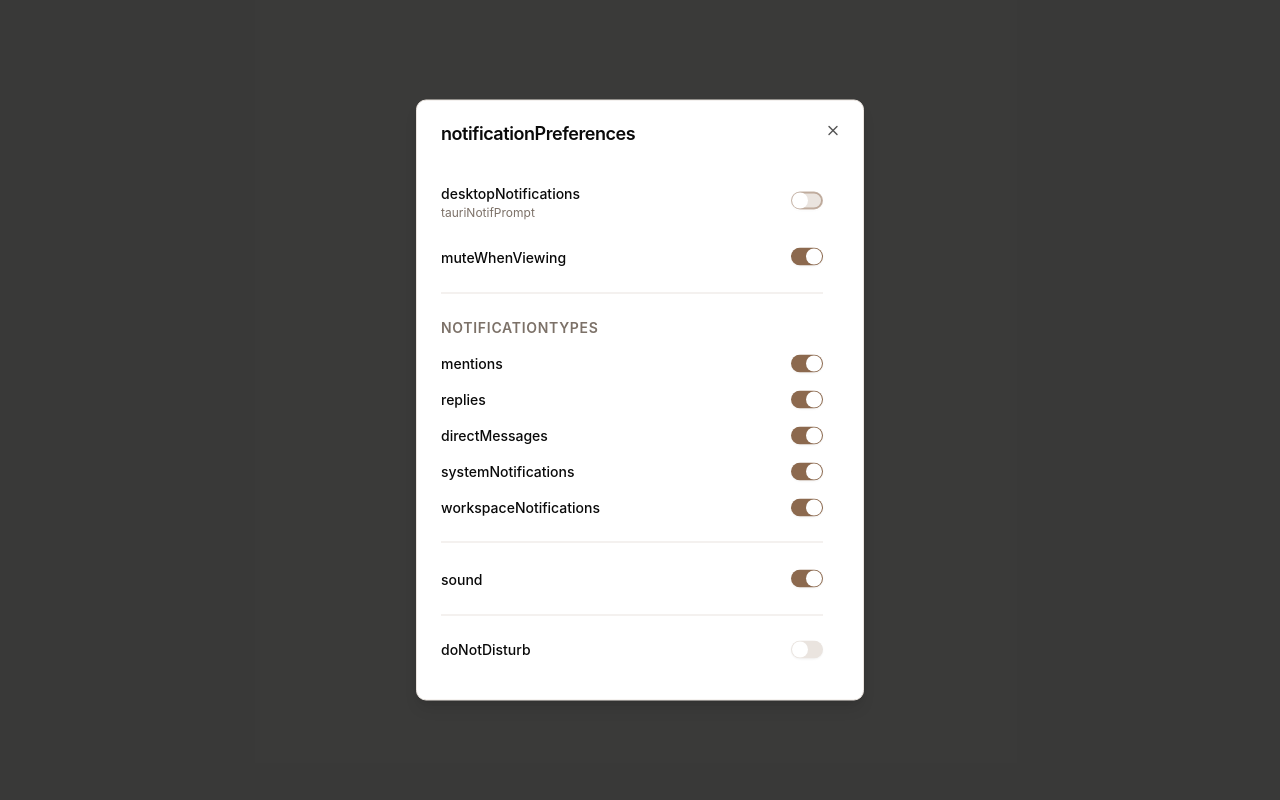
it: NotificationPreferencesDialog › desktop notifications in Tauri (per-device) › toggling ON does not flip the switch when user denies permission
Click the switch in the row of "desktopNotifications" at (807, 200), box [791,191,823,210]
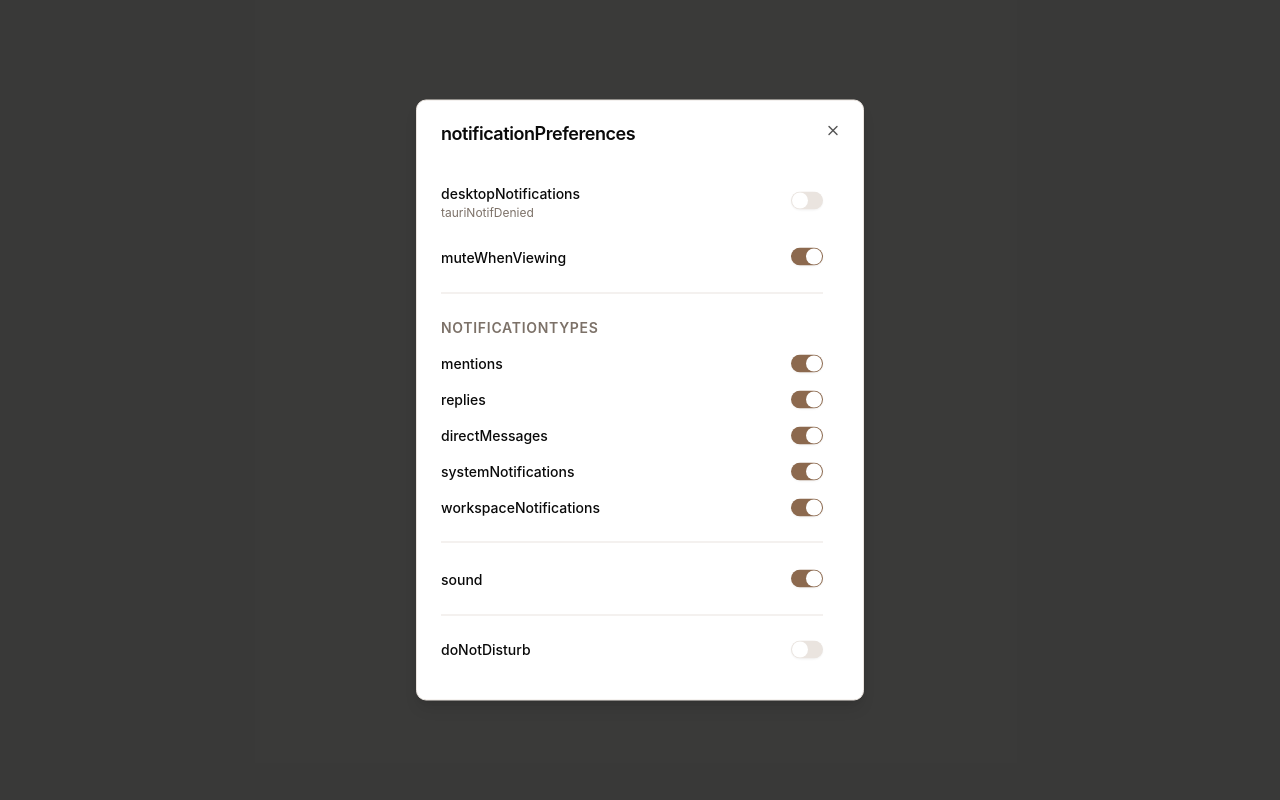
Check: the text "tauriNotifDenied" is shown, box [441,204,534,220]
